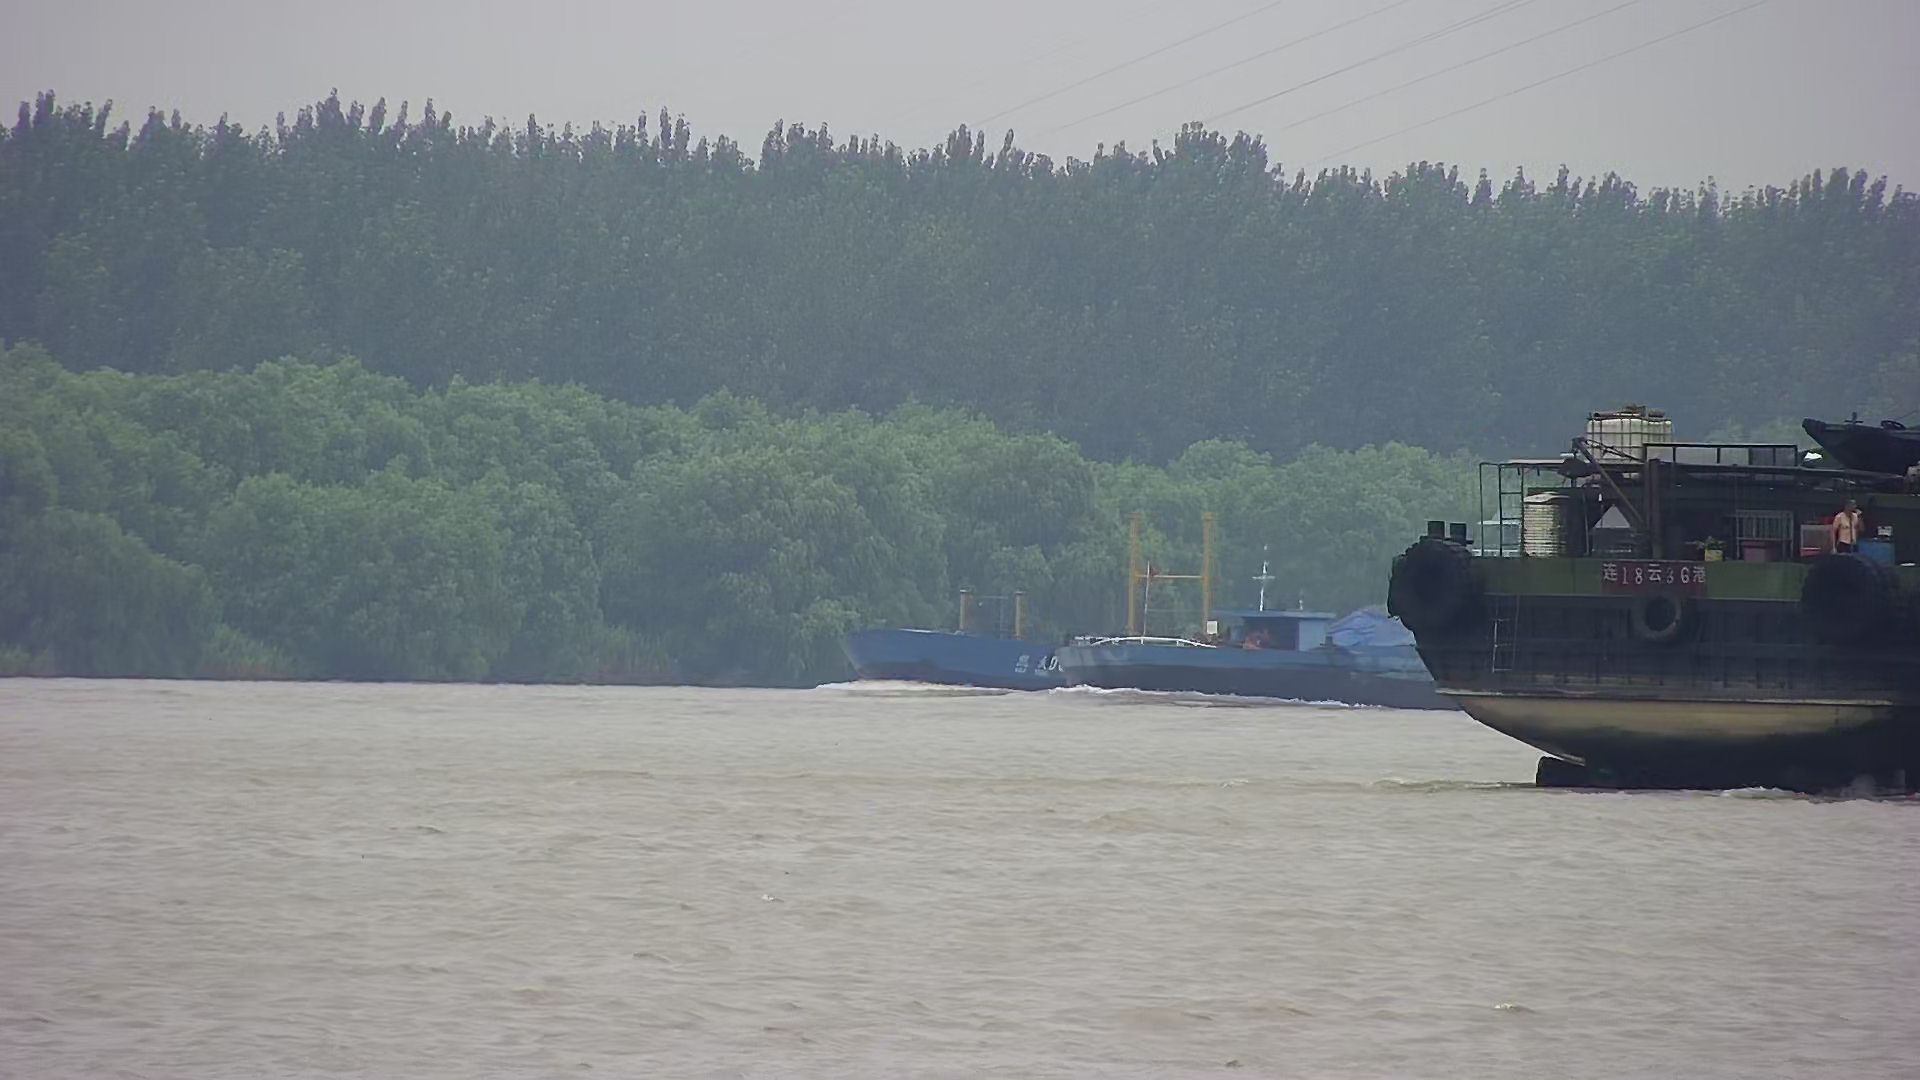person: (1832, 494, 1864, 556)
ship: (1385, 400, 1915, 796), (832, 507, 1212, 687), (1063, 546, 1464, 710)
